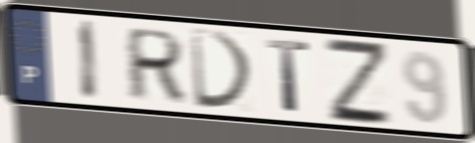9: (400, 48, 451, 127)
D: (187, 26, 258, 112)
I: (77, 16, 100, 104)
R: (125, 26, 188, 103)
T: (264, 36, 313, 116)
Z: (321, 34, 396, 127)
